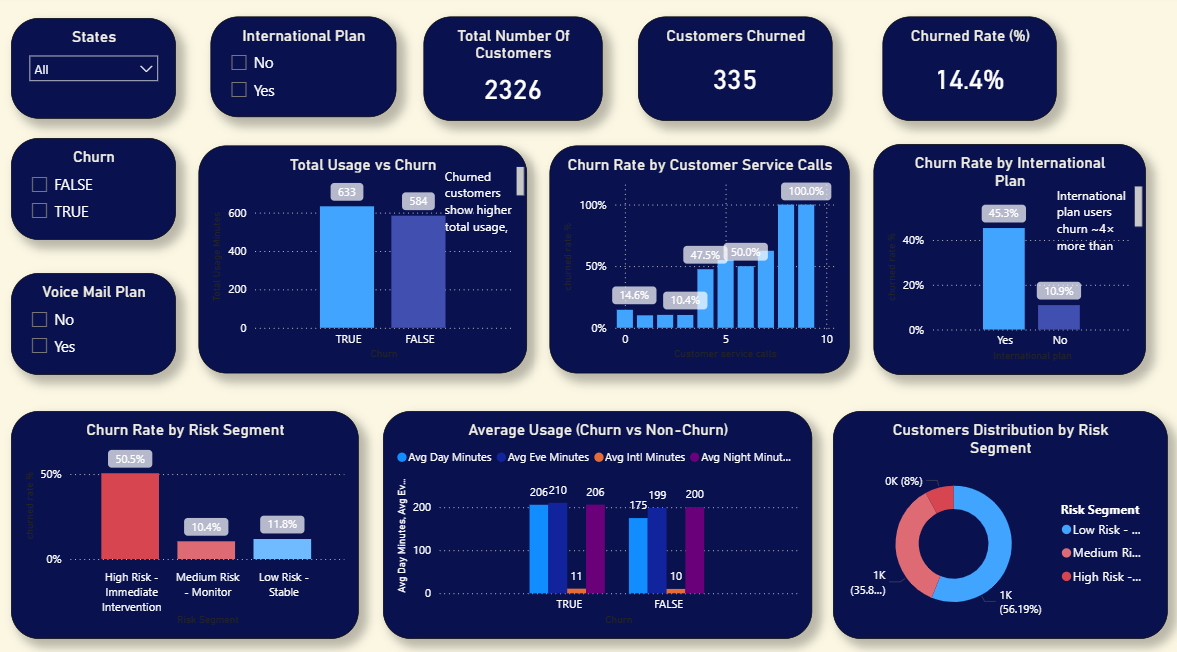

Layout of this report page (visuals, bound fields, positions):
{"tool":"powerbi","page":{"name":"Customer Churn Risk & Retention Dashboard","canvas":[1280,720],"ordinal":0},"visuals":[{"type":"card","title":"Total Number Of Customers","fields":{"Values":["churn churn_clean.total customers"]},"box":[461.6,23.9,193.2,112.8],"z":0},{"type":"card","title":"Customers Churned","fields":{"Values":["churn churn_clean.churned customer"]},"box":[692.4,23.9,210.3,112.8],"z":1000},{"type":"lineStackedColumnComboChart","title":"Churn Rate by Customer Service Calls","fields":{"Category":["churn churn_clean.Customer service calls"],"Y":["churn churn_clean.churned rate %"]},"box":[594.3,163.5,323.8,246.1],"z":2000},{"type":"lineStackedColumnComboChart","title":"Churn Rate by International Plan","fields":{"Category":["churn churn_clean.International plan"],"Y":["churn churn_clean.churned rate %"]},"box":[947.2,162.4,294.1,249.6],"z":3000},{"type":"clusteredColumnChart","title":"Average Usage  (Churn vs Non-Churn)","fields":{"Category":["churn churn_clean.Churn"],"Y":["churn churn_clean.Avg Day Minutes","churn churn_clean.Avg Eve Minutes","churn churn_clean.Avg Intl Minutes","churn churn_clean.Avg Night Minutes"]},"box":[417.8,450.1,463.1,246.1],"z":4000},{"type":"lineStackedColumnComboChart","title":"Total Usage vs Churn","fields":{"Category":["churn churn_clean.Churn"],"Y":["churn churn_clean.Total Usage Minutes"]},"box":[204,163.5,354.6,246.1],"z":5000},{"type":"donutChart","title":"Customers Distribution by Risk Segment","fields":{"Category":["churn churn_clean.Risk Segment"],"Y":["churn churn_clean.total customers"]},"box":[903.5,450.1,361.1,246.1],"z":6000},{"type":"lineStackedColumnComboChart","title":"Churn Rate by Risk Segment","fields":{"Category":["churn churn_clean.Risk Segment"],"Y":["churn churn_clean.churned rate %"]},"box":[16.2,450.1,375.7,246.1],"z":7000},{"type":"slicer","title":"States","fields":{"Values":["churn churn_clean.State"]},"box":[16.2,25.9,178.1,108.5],"z":8000},{"type":"slicer","title":"International Plan","fields":{"Values":["churn churn_clean.International plan"]},"box":[231.5,24.3,200.8,108.5],"z":9000},{"type":"slicer","title":"Voice Mail Plan","fields":{"Values":["churn churn_clean.Voice mail plan"]},"box":[16.2,301.2,178.1,110.1],"z":10000},{"type":"slicer","title":"Churn","fields":{"Values":["churn churn_clean.Churn"]},"box":[16.2,155.4,178.1,110.1],"z":11000},{"type":"card","title":"Churned Rate (%)","fields":{"Values":["churn churn_clean.churned rate %"]},"box":[957.4,23.9,188.1,112.8],"z":12000},{"type":"textbox","box":[479.3,181.4,95.5,84.2],"z":13000},{"type":"textbox","box":[1139.9,202.4,102,84.2],"z":14000}]}

Visuals, with their boxes in screenshot pixels (x1, y1, x2, y2), scaled from the page's 1280x720 canvas onto the 1177x652 screenshot:
"Total Number Of Customers" card: [left=424, top=22, right=602, bottom=124]
"Customers Churned" card: [left=637, top=22, right=830, bottom=124]
"Churn Rate by Customer Service Calls" lineStackedColumnComboChart: [left=546, top=148, right=844, bottom=371]
"Churn Rate by International Plan" lineStackedColumnComboChart: [left=871, top=147, right=1141, bottom=373]
"Average Usage  (Churn vs Non-Churn)" clusteredColumnChart: [left=384, top=408, right=810, bottom=630]
"Total Usage vs Churn" lineStackedColumnComboChart: [left=188, top=148, right=514, bottom=371]
"Customers Distribution by Risk Segment" donutChart: [left=831, top=408, right=1163, bottom=630]
"Churn Rate by Risk Segment" lineStackedColumnComboChart: [left=15, top=408, right=360, bottom=630]
"States" slicer: [left=15, top=23, right=179, bottom=122]
"International Plan" slicer: [left=213, top=22, right=398, bottom=120]
"Voice Mail Plan" slicer: [left=15, top=273, right=179, bottom=372]
"Churn" slicer: [left=15, top=141, right=179, bottom=240]
"Churned Rate (%)" card: [left=880, top=22, right=1053, bottom=124]
textbox: [left=441, top=164, right=529, bottom=241]
textbox: [left=1048, top=183, right=1142, bottom=260]
